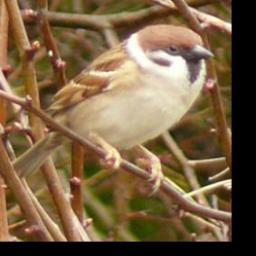Sparrow: (10, 24, 217, 195)
